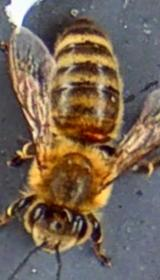varroa_mite: (71, 121, 119, 154)
